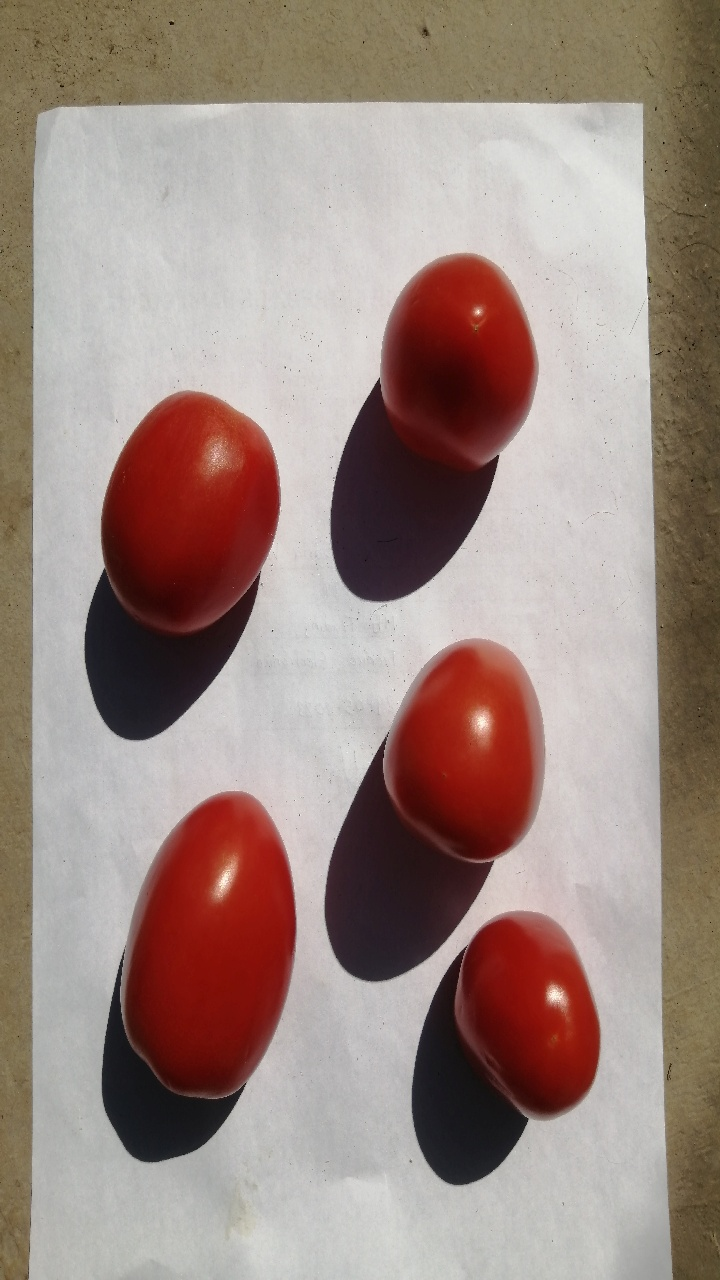tomateRojo: (95, 777, 317, 1166), (75, 371, 298, 654), (352, 232, 564, 492), (360, 631, 568, 886), (431, 891, 629, 1131)
